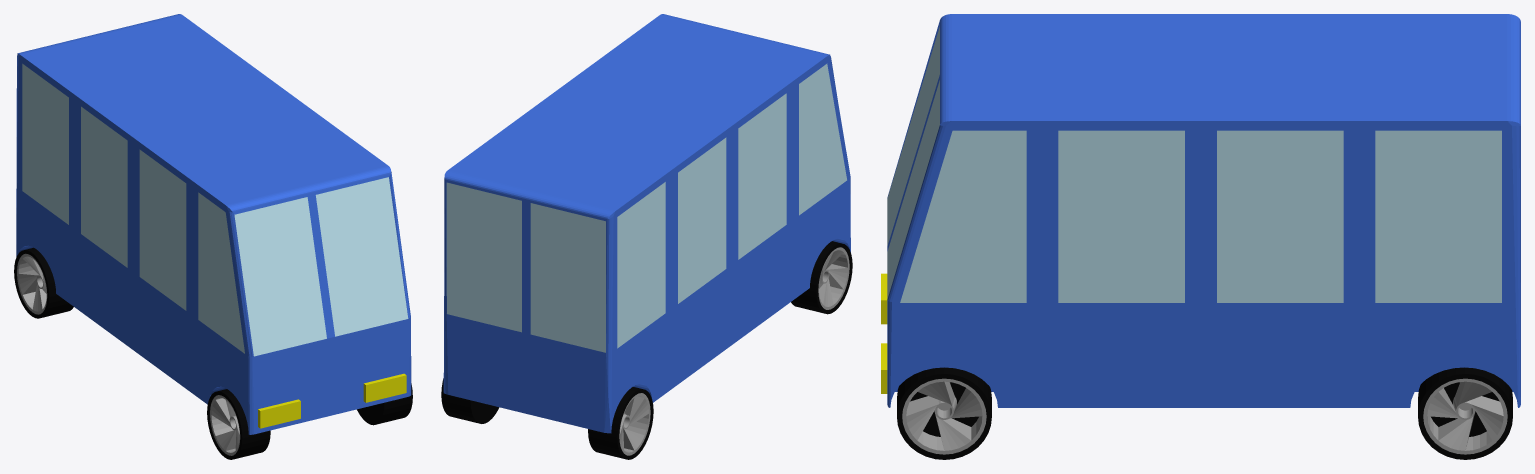
The model's file is bus.glb.
The picture shows the model from 3 angles, left to right: view 1: azimuth 30°, elevation 25°; view 2: azimuth 150°, elevation 25°; view 3: azimuth 270°, elevation 25°; orthographic projection. The views are drawn at different scales.
Visible parts, largest first — view 1: busbody, front_wheel, back_wheel; view 2: busbody, back_wheel, front_wheel; view 3: busbody, front_wheel, back_wheel.
Boxes of the visible parts, <box> form: busbody: <box>16,14,411,434</box>; front_wheel: <box>207,383,412,459</box>; back_wheel: <box>14,247,73,318</box>; busbody: <box>443,14,850,433</box>; back_wheel: <box>441,378,653,459</box>; front_wheel: <box>791,241,852,314</box>; busbody: <box>881,14,1520,407</box>; front_wheel: <box>897,367,991,459</box>; back_wheel: <box>1418,367,1512,459</box>.
Size of the model in its own units: 4.2 by 5.86 by 10.1.
